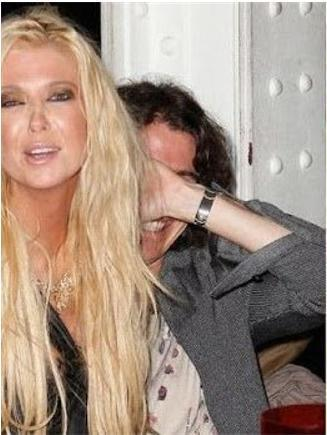Drunk: (8, 49, 85, 181)
